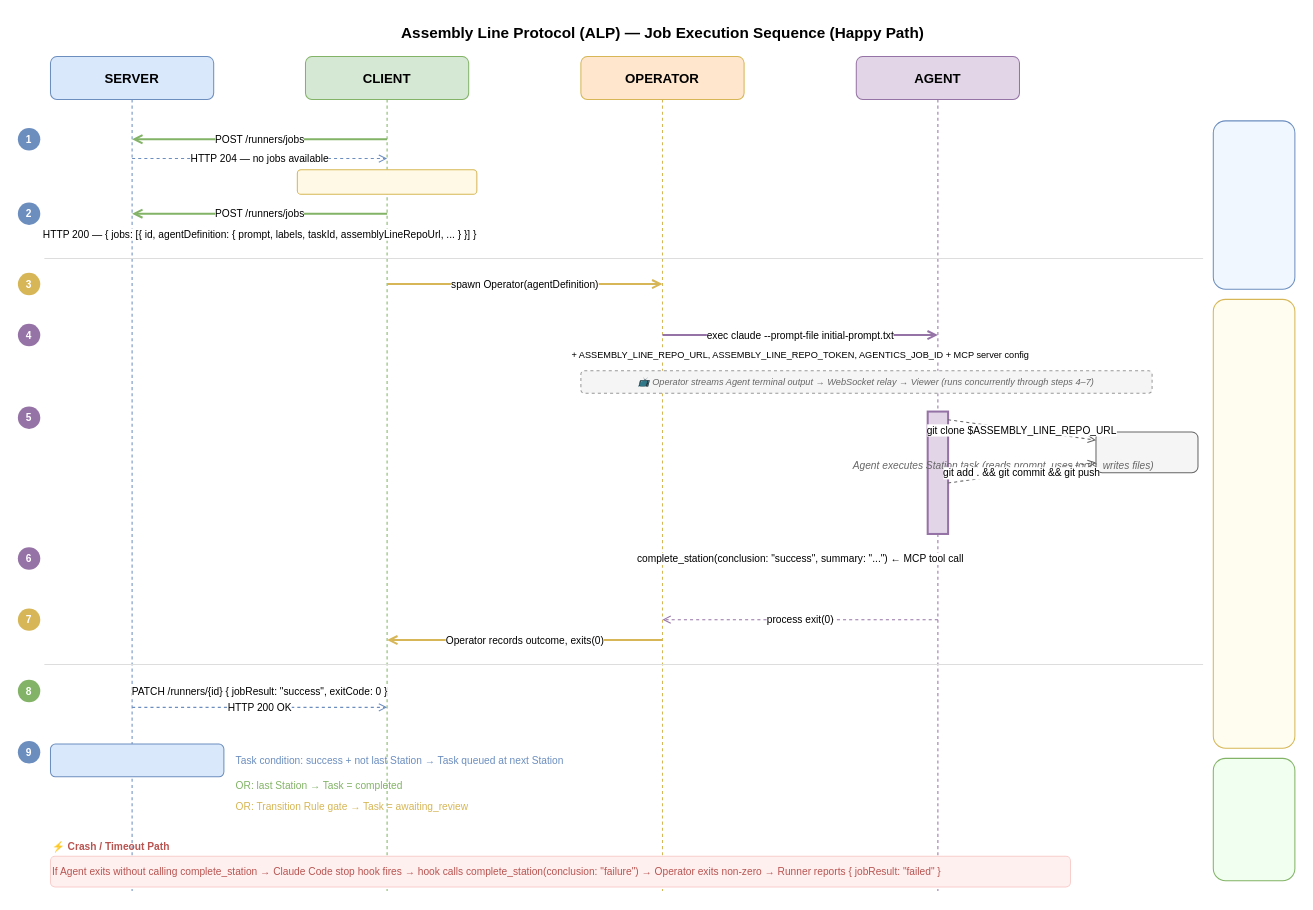
The diagram is 1313 pixels wide and 910 high, and some of its shapes have lost their labels. Here are the shapes that lost their labels. From the top down, the box of each, then its label:
(296, 169, 477, 194): ⏱ wait 10 s (polling interval)
(1212, 120, 1295, 289): POLL
(1095, 431, 1198, 473): Assembly Line Repository
(1212, 298, 1295, 748): EXECUTE
(49, 743, 224, 777): Server evaluates Transition Rules
(1212, 757, 1295, 881): REPORT
